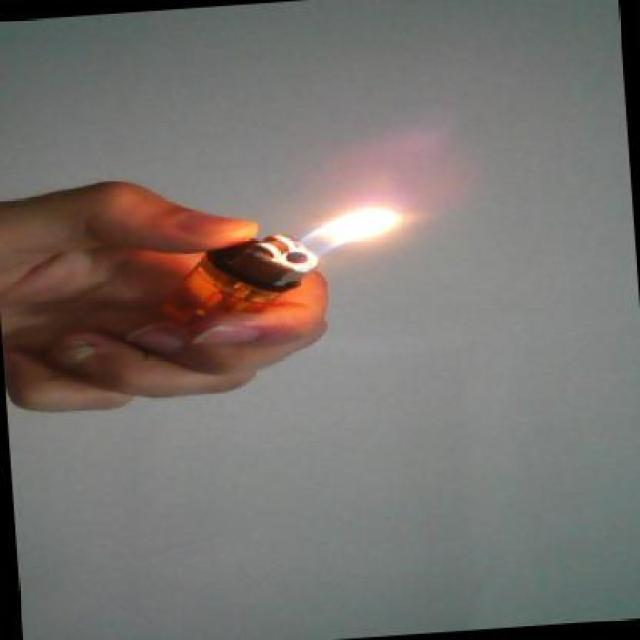Fire: (308, 190, 407, 273)
